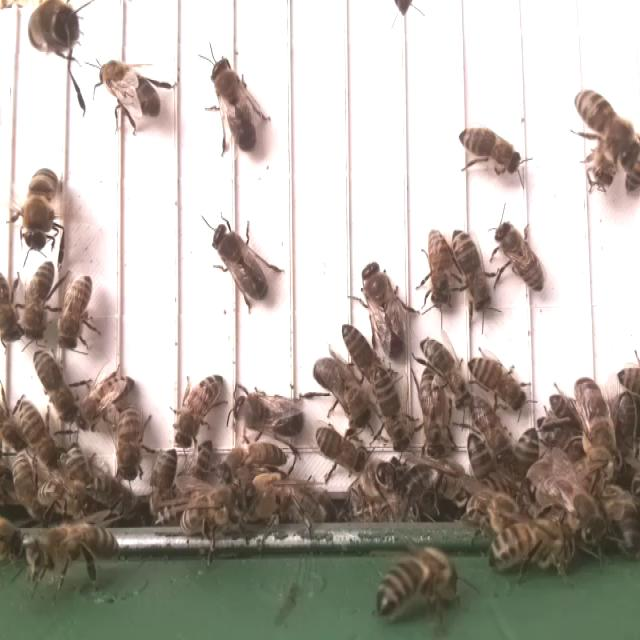Drone: (206, 52, 261, 157), (360, 256, 409, 363), (311, 351, 373, 435), (209, 222, 272, 304), (92, 57, 166, 125), (228, 388, 307, 442), (20, 164, 65, 255)
Worker: (171, 372, 229, 453), (492, 220, 549, 295), (572, 86, 630, 158), (466, 348, 530, 413), (450, 223, 494, 317), (418, 335, 469, 409), (416, 368, 454, 464), (74, 371, 139, 427), (457, 124, 523, 177), (32, 346, 74, 423), (312, 423, 369, 479), (22, 257, 59, 342), (377, 373, 414, 458), (57, 270, 95, 352), (423, 224, 454, 312), (339, 321, 383, 383), (115, 400, 145, 484)
